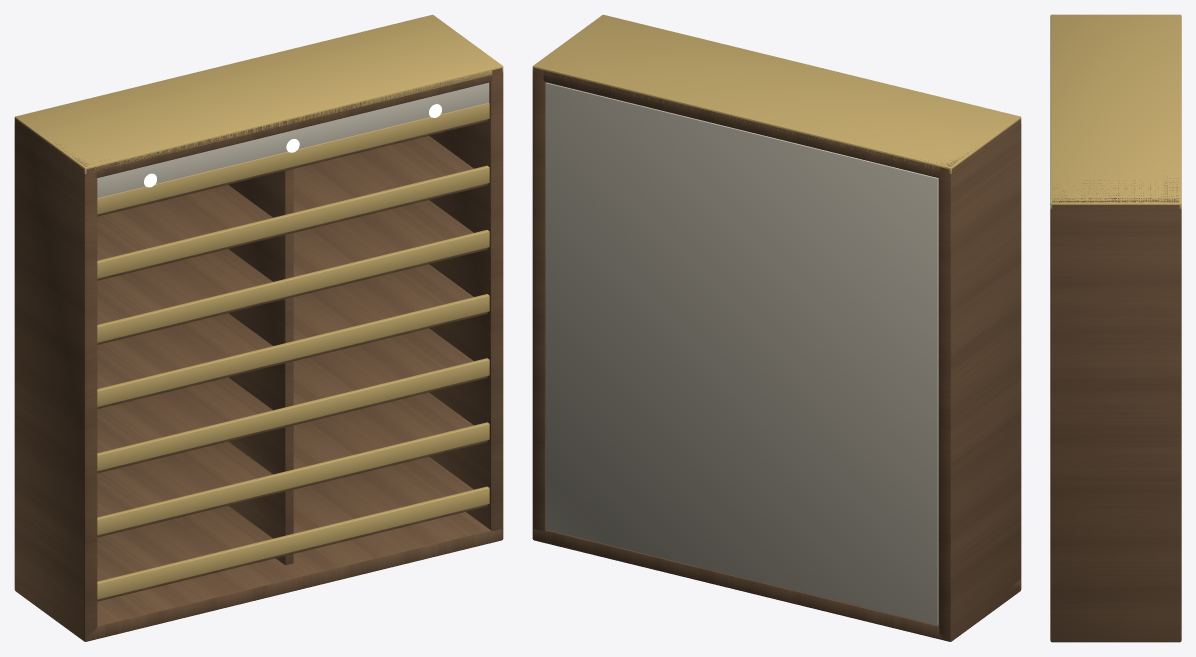
File: pf_display_snack_shelving_t4.glb
The picture shows the model from 3 angles, left to right: view 1: azimuth 30°, elevation 25°; view 2: azimuth 150°, elevation 25°; view 3: azimuth 270°, elevation 25°; orthographic projection. The views are drawn at different scales.
Visible parts, largest first — view 1: Case_Left, Crown_Trim, Case_Right, Shelf_01, Shelf_02, Shelf_06, Shelf_04, Shelf_05, Shelf_03, Case_Base, Millwork_Divider_01, Header_Back (+9 smaller); view 2: Case_Back, Case_Left, Crown_Trim, Case_Right, Case_Base, Case_Top; view 3: Case_Right, Crown_Trim, Case_Top.
Boxes of the visible parts, x1,y1,x2,y2 form: Case_Left: (14, 119, 97, 641); Crown_Trim: (14, 14, 503, 174); Case_Right: (429, 68, 503, 542); Shelf_01: (97, 456, 487, 601); Shelf_02: (97, 392, 487, 537); Shelf_06: (97, 136, 487, 280); Shelf_04: (97, 264, 487, 408); Shelf_05: (97, 200, 487, 344); Shelf_03: (97, 328, 487, 473); Case_Base: (17, 512, 502, 641); Millwork_Divider_01: (228, 169, 293, 565); Header_Back: (97, 82, 489, 198); Case_Back: (545, 82, 938, 625); Case_Left: (938, 119, 1021, 641); Crown_Trim: (532, 14, 1021, 174); Case_Right: (532, 68, 546, 542); Case_Base: (533, 529, 1020, 640); Case_Top: (533, 69, 1020, 178); Case_Right: (1050, 198, 1181, 642); Crown_Trim: (1050, 14, 1181, 209); Case_Top: (1052, 178, 1180, 212).
Bounding box in the file's own units: 2.05 × 2.22 × 0.6.
5 materials, 1 textured.
